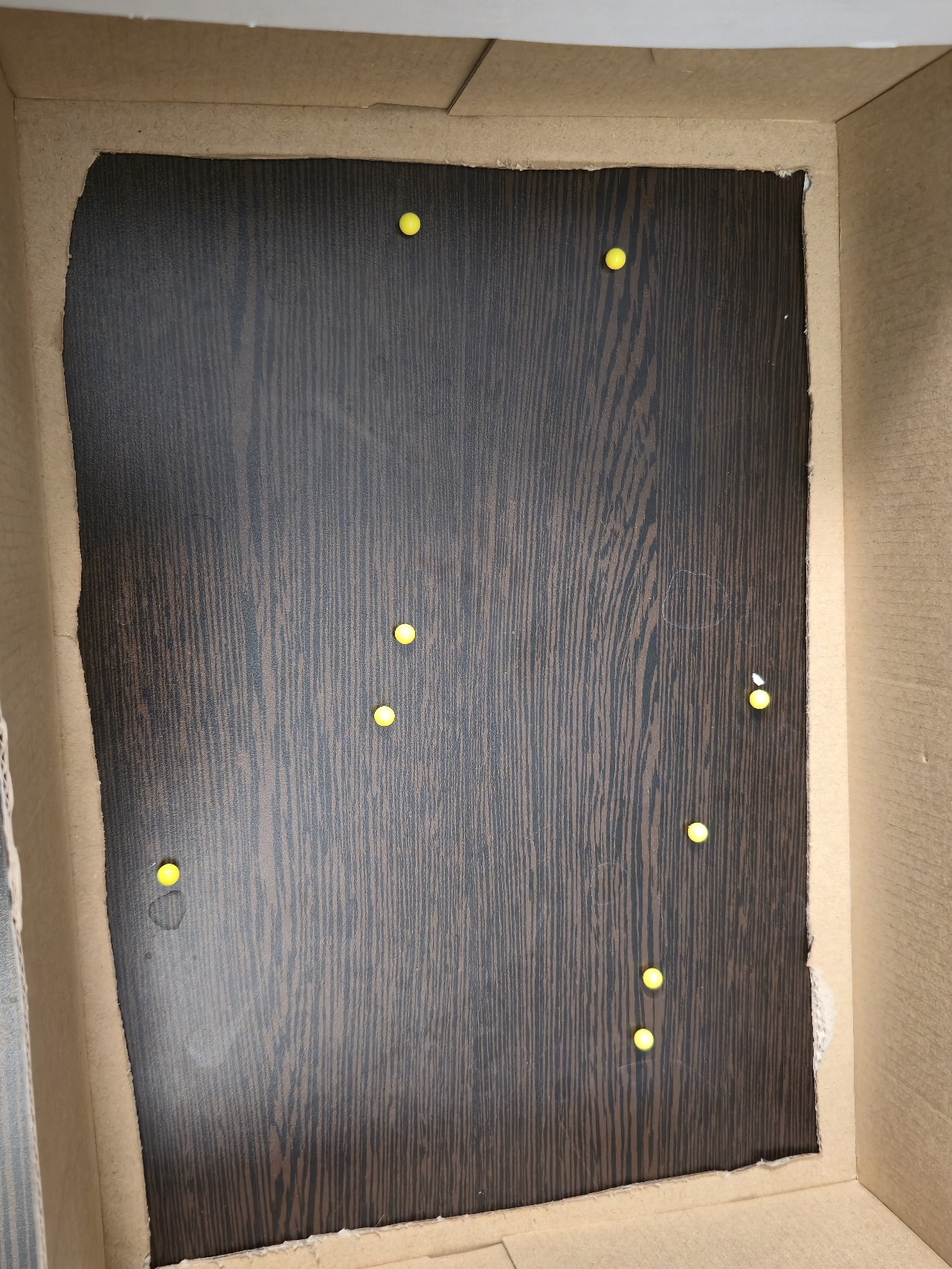yellow_bead: (161, 869, 175, 879), (405, 218, 416, 229), (611, 253, 621, 264), (400, 634, 411, 639), (379, 717, 389, 722), (649, 980, 657, 985), (643, 1043, 649, 1046)
